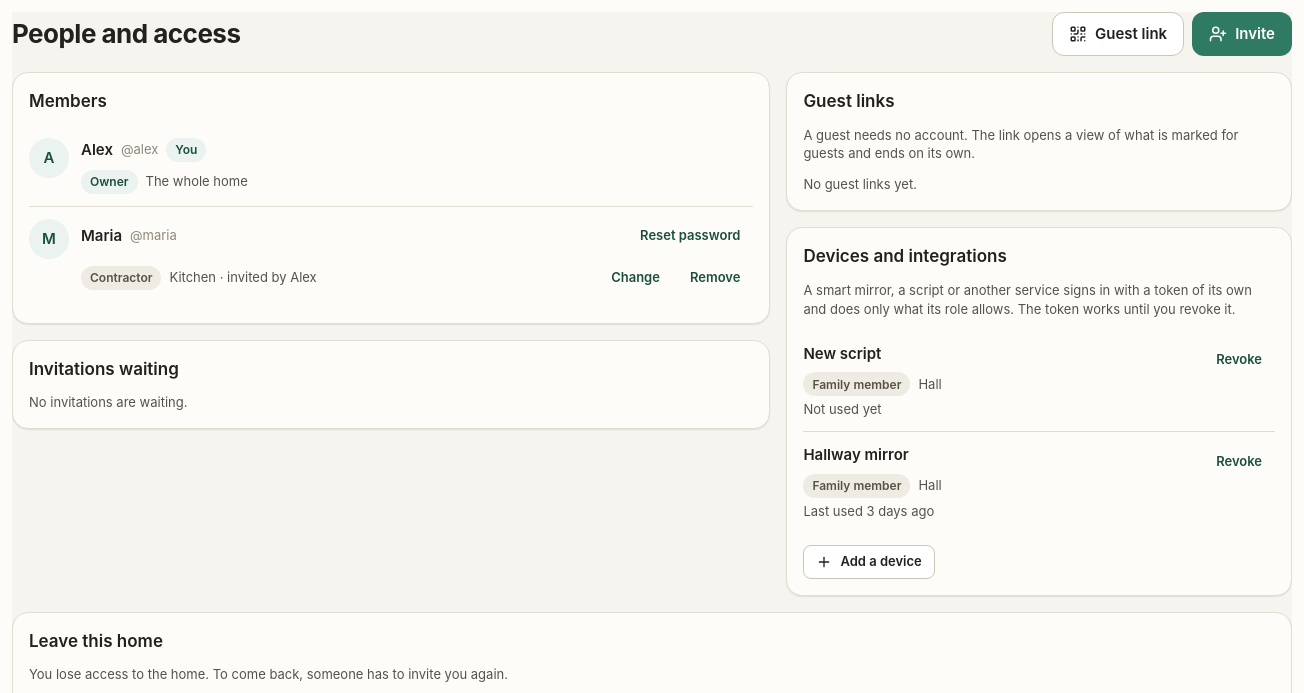
Test: PeoplePage › says when a device was never used, or by no known address, and why a revoke failed
Check: the text "Not used yet" is shown, box [803,401,882,417]
Check: the text "Last used 3 days ago" does not show "from", box [803,503,934,519]
Click the button with aria-label "Revoke the token of “New script”".
click(1239, 360)  # box [1203,342,1275,376]
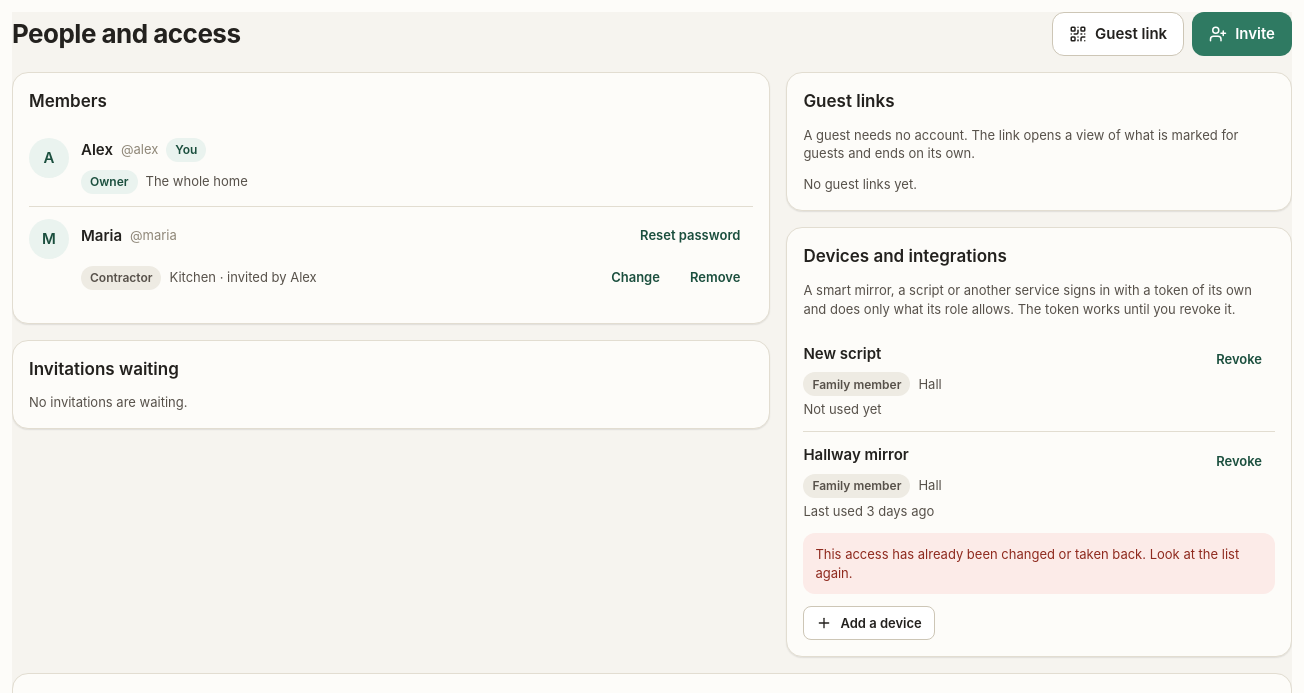
Check: the message shows "This access has already been changed or taken back.", box [815,546,1239,580]
